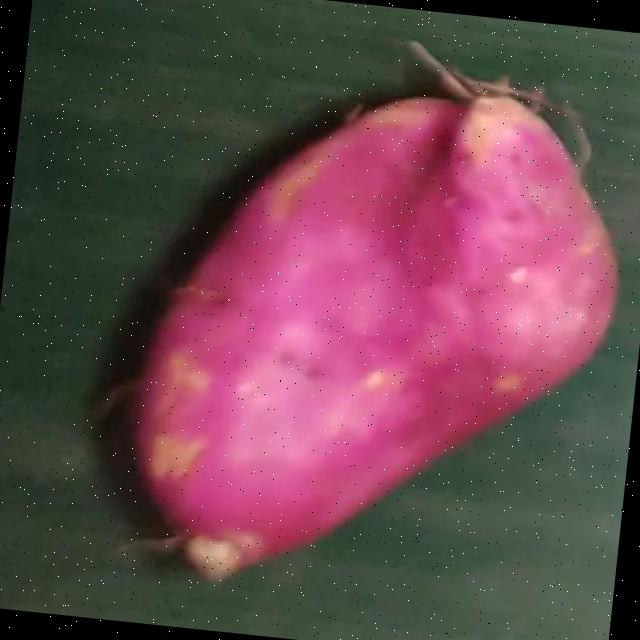Sweet Potato: (138, 93, 622, 581)
